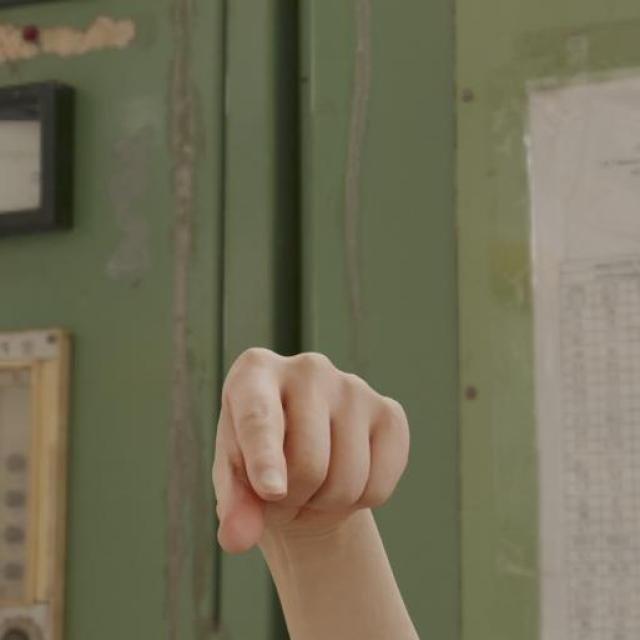Q: (206, 342, 415, 556)
